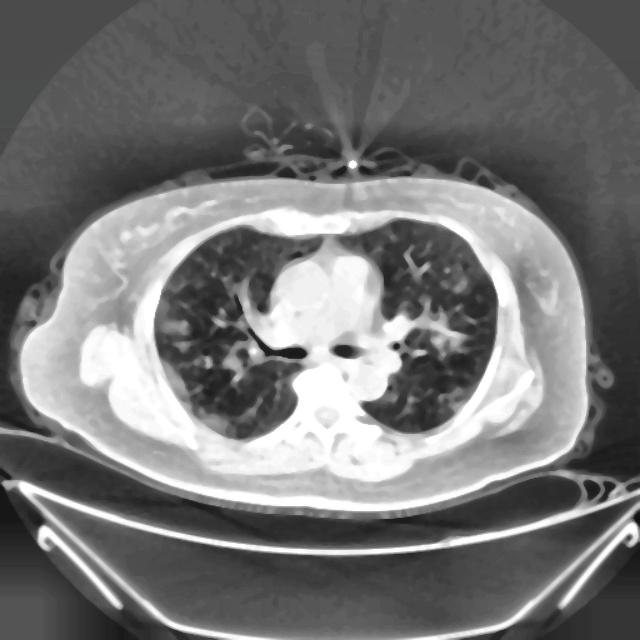covid: (9, 140, 596, 521)
